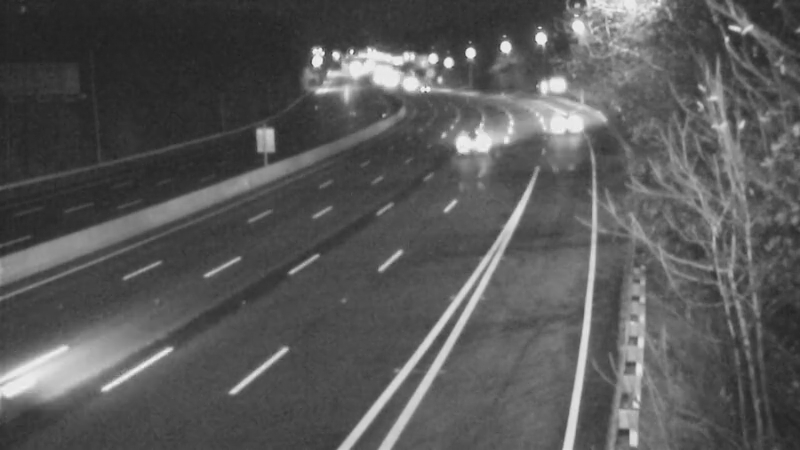vehicle: (399, 64, 449, 114), (540, 98, 590, 148), (450, 120, 500, 170)
